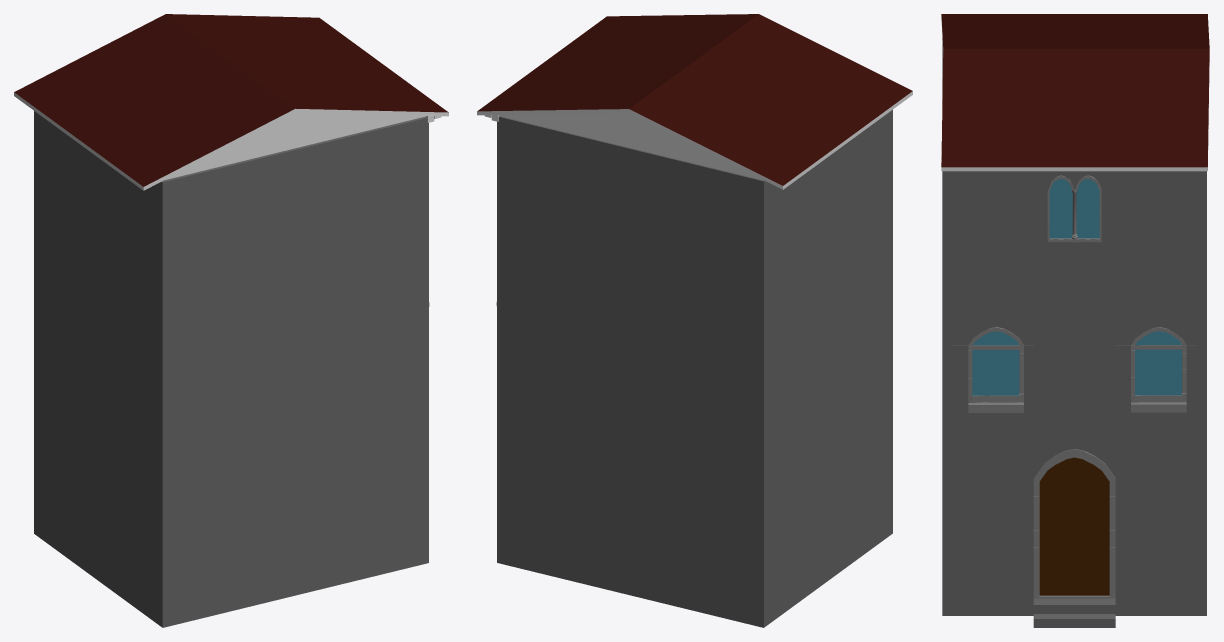
Rendered from Maison1.glb.
3 views of the same model, side by side, from view 1: azimuth 30°, elevation 25°; view 2: azimuth 150°, elevation 25°; view 3: azimuth 270°, elevation 25° (orthographic). The views are drawn at different scales.
Visible parts, largest first — view 1: Maison, Cube.002; view 2: Maison, Cube.002; view 3: Maison, Cube.002, PorteEscalier, EmplacementPorte, FenêtreCourbRebord, FenêtreCourbRebord.001, EmplacementFenêtreDouble, EmpacementFenêtreCourb, EmpacementFenêtreCourb.001, FenetreCaro.
Boxes of the visible parts, bbox=[...] form: Maison: bbox=[34, 111, 429, 627]; Cube.002: bbox=[14, 14, 448, 190]; Maison: bbox=[496, 110, 892, 627]; Cube.002: bbox=[477, 14, 912, 189]; Maison: bbox=[942, 38, 1206, 615]; Cube.002: bbox=[941, 14, 1209, 171]; PorteEscalier: bbox=[1033, 449, 1115, 627]; EmplacementPorte: bbox=[1011, 438, 1137, 615]; FenêtreCourbRebord: bbox=[1131, 326, 1186, 412]; FenêtreCourbRebord.001: bbox=[968, 327, 1023, 412]; EmplacementFenêtreDouble: bbox=[1034, 171, 1114, 268]; EmpacementFenêtreCourb: bbox=[1115, 320, 1196, 422]; EmpacementFenêtreCourb.001: bbox=[952, 320, 1033, 422]; FenetreCaro: bbox=[1047, 175, 1101, 242].
Bounding box in the file's own units: 5.82 × 8.74 × 4.25.
